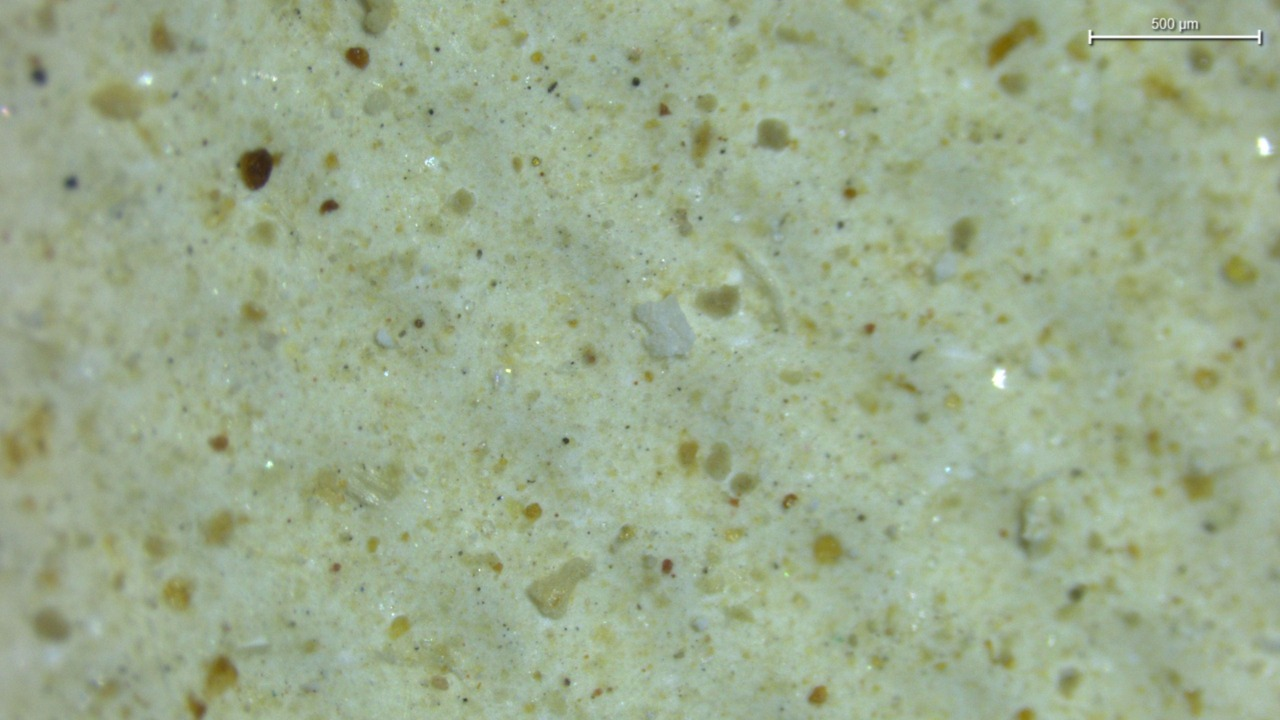microplastic_fragment: (634, 295, 695, 358)
